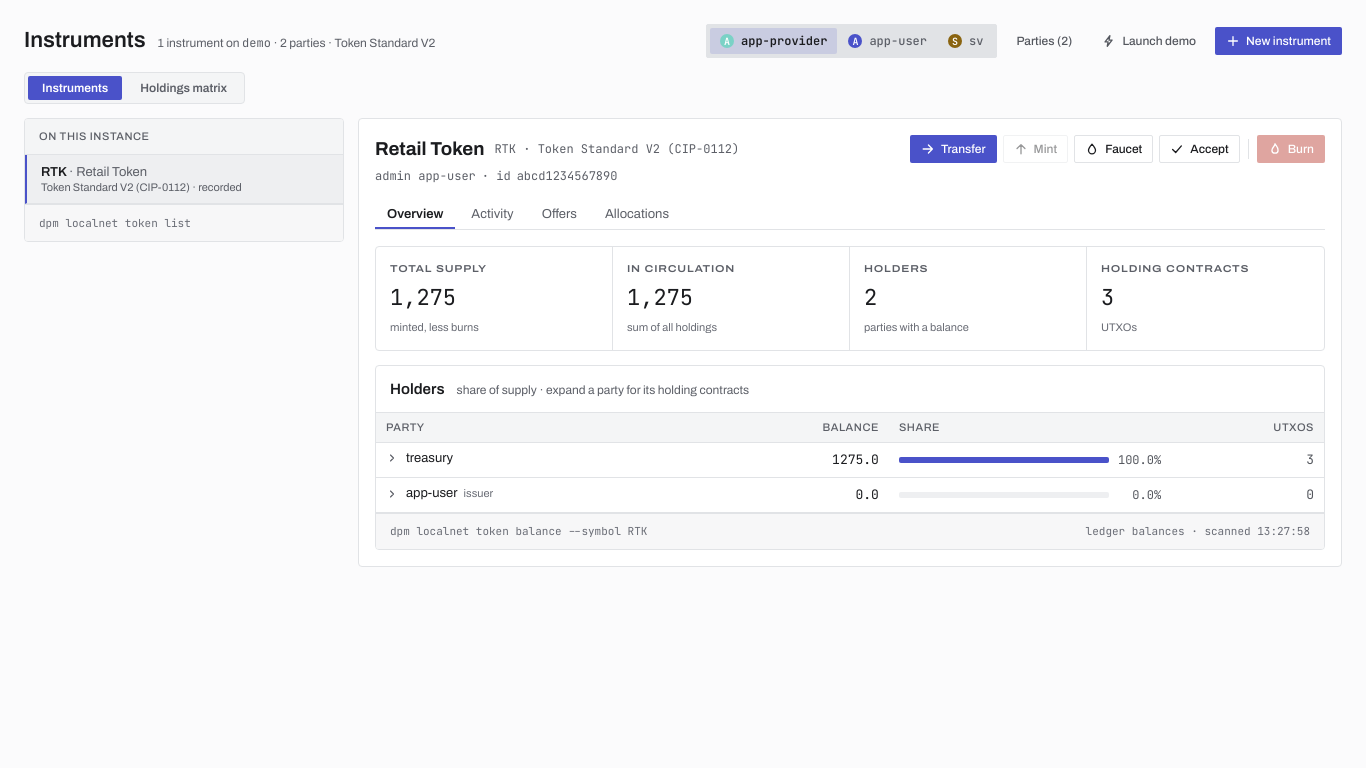
TokensScreen › party picker lists registered aliases and offers inline create
This screenshot has width=1366, height=768.
Click the button "Faucet".
click(1114, 149)  # box x1=1074 y1=135 x2=1153 y2=163
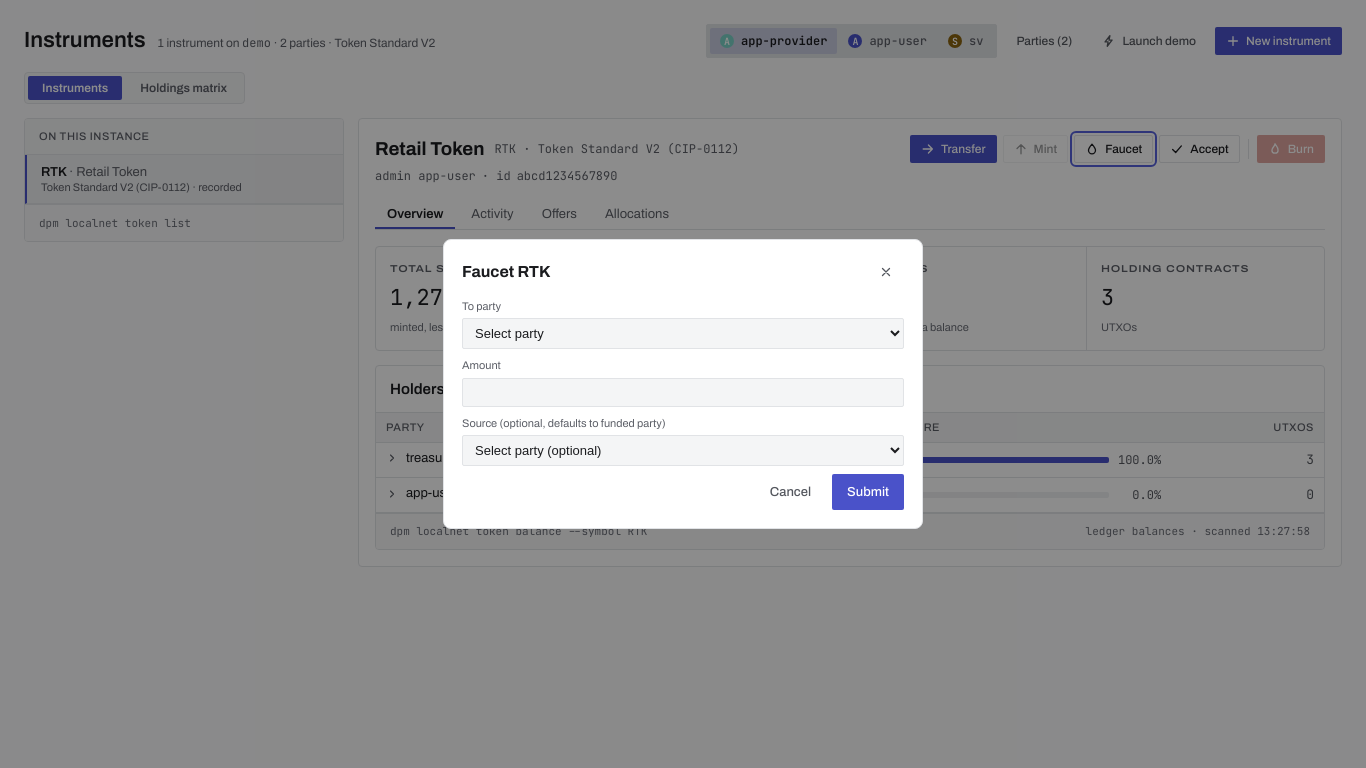
Select "＋ create new party…" in the dropdown labelled "To party" at (683, 334), box x1=462 y1=318 x2=904 y2=349
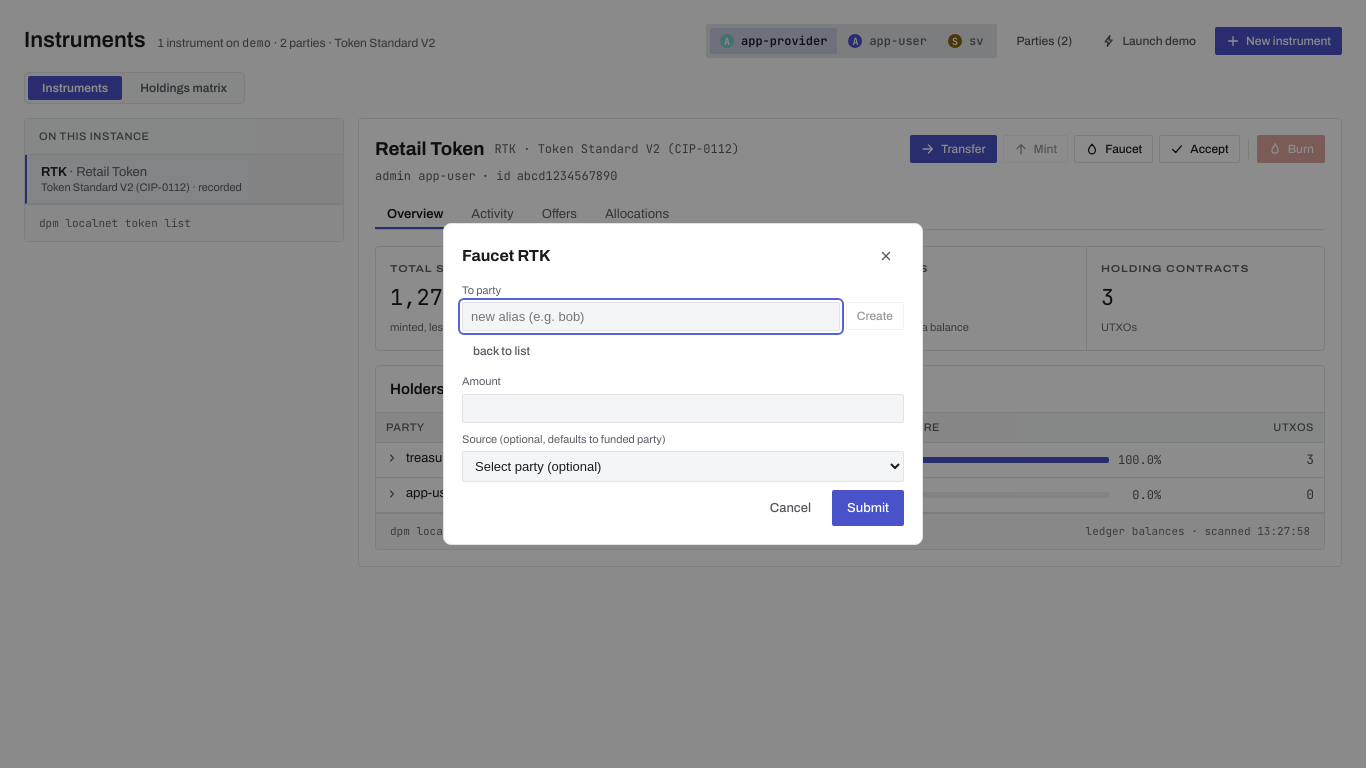
Expected: the field with placeholder "new alias (e.g. bob)" is shown, x1=462 y1=302 x2=840 y2=331
